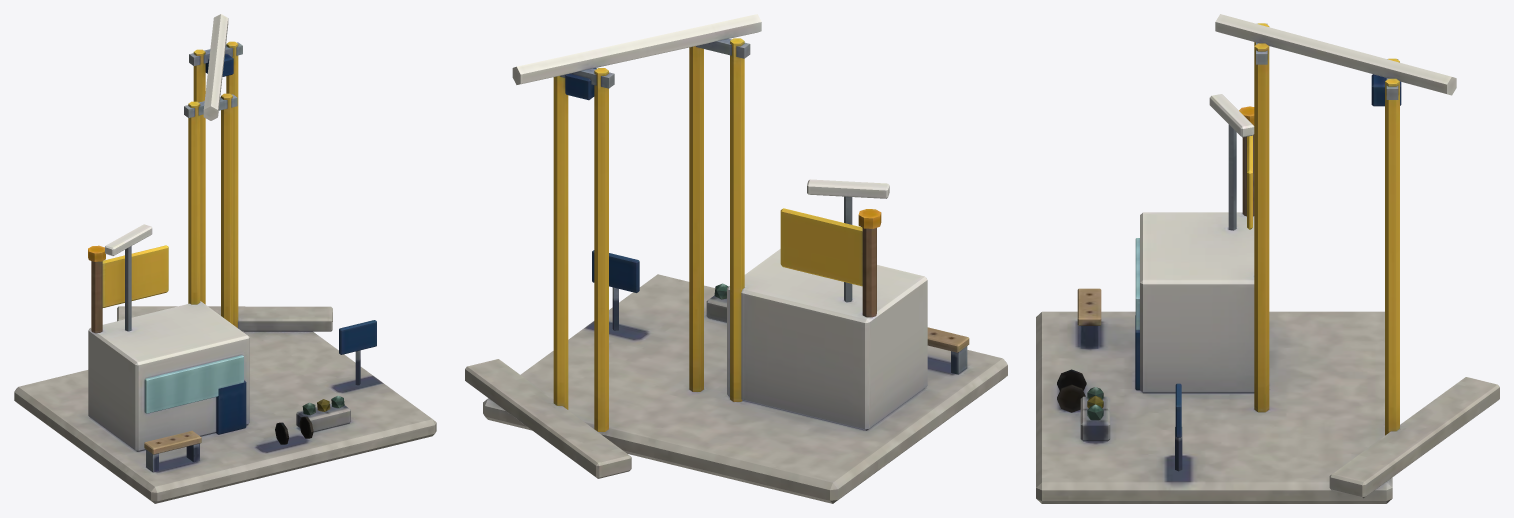
Rendered from harbor-30.glb.
The picture shows the model from 3 angles, left to right: view 1: azimuth 30°, elevation 25°; view 2: azimuth 150°, elevation 25°; view 3: azimuth 270°, elevation 25°; orthographic projection. The views are drawn at different scales.
Visible parts, largest first — view 1: harbor-30; view 2: harbor-30; view 3: harbor-30.
Part boxes in pixels (<box>): harbor-30: <box>14,14,436,503</box>; harbor-30: <box>465,14,1007,503</box>; harbor-30: <box>1036,14,1499,503</box>.
Size of the model in its own units: 1.51 by 1.48 by 1.56.
1 material, 1 textured.
